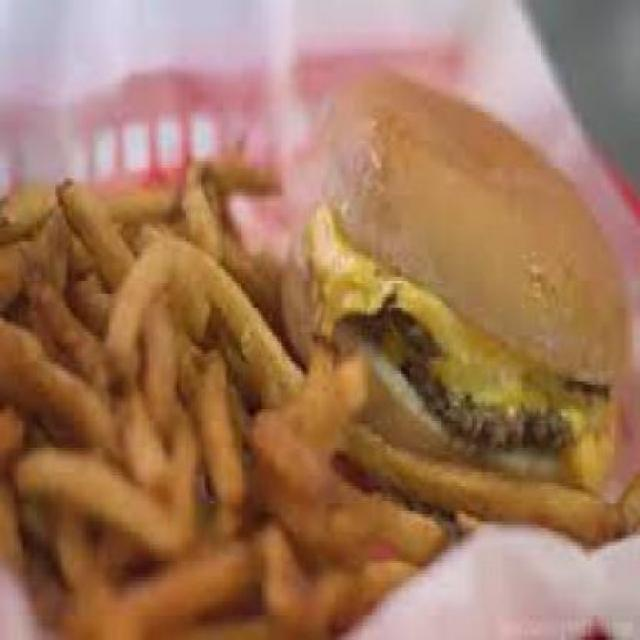hamburger: (276, 55, 624, 500)
